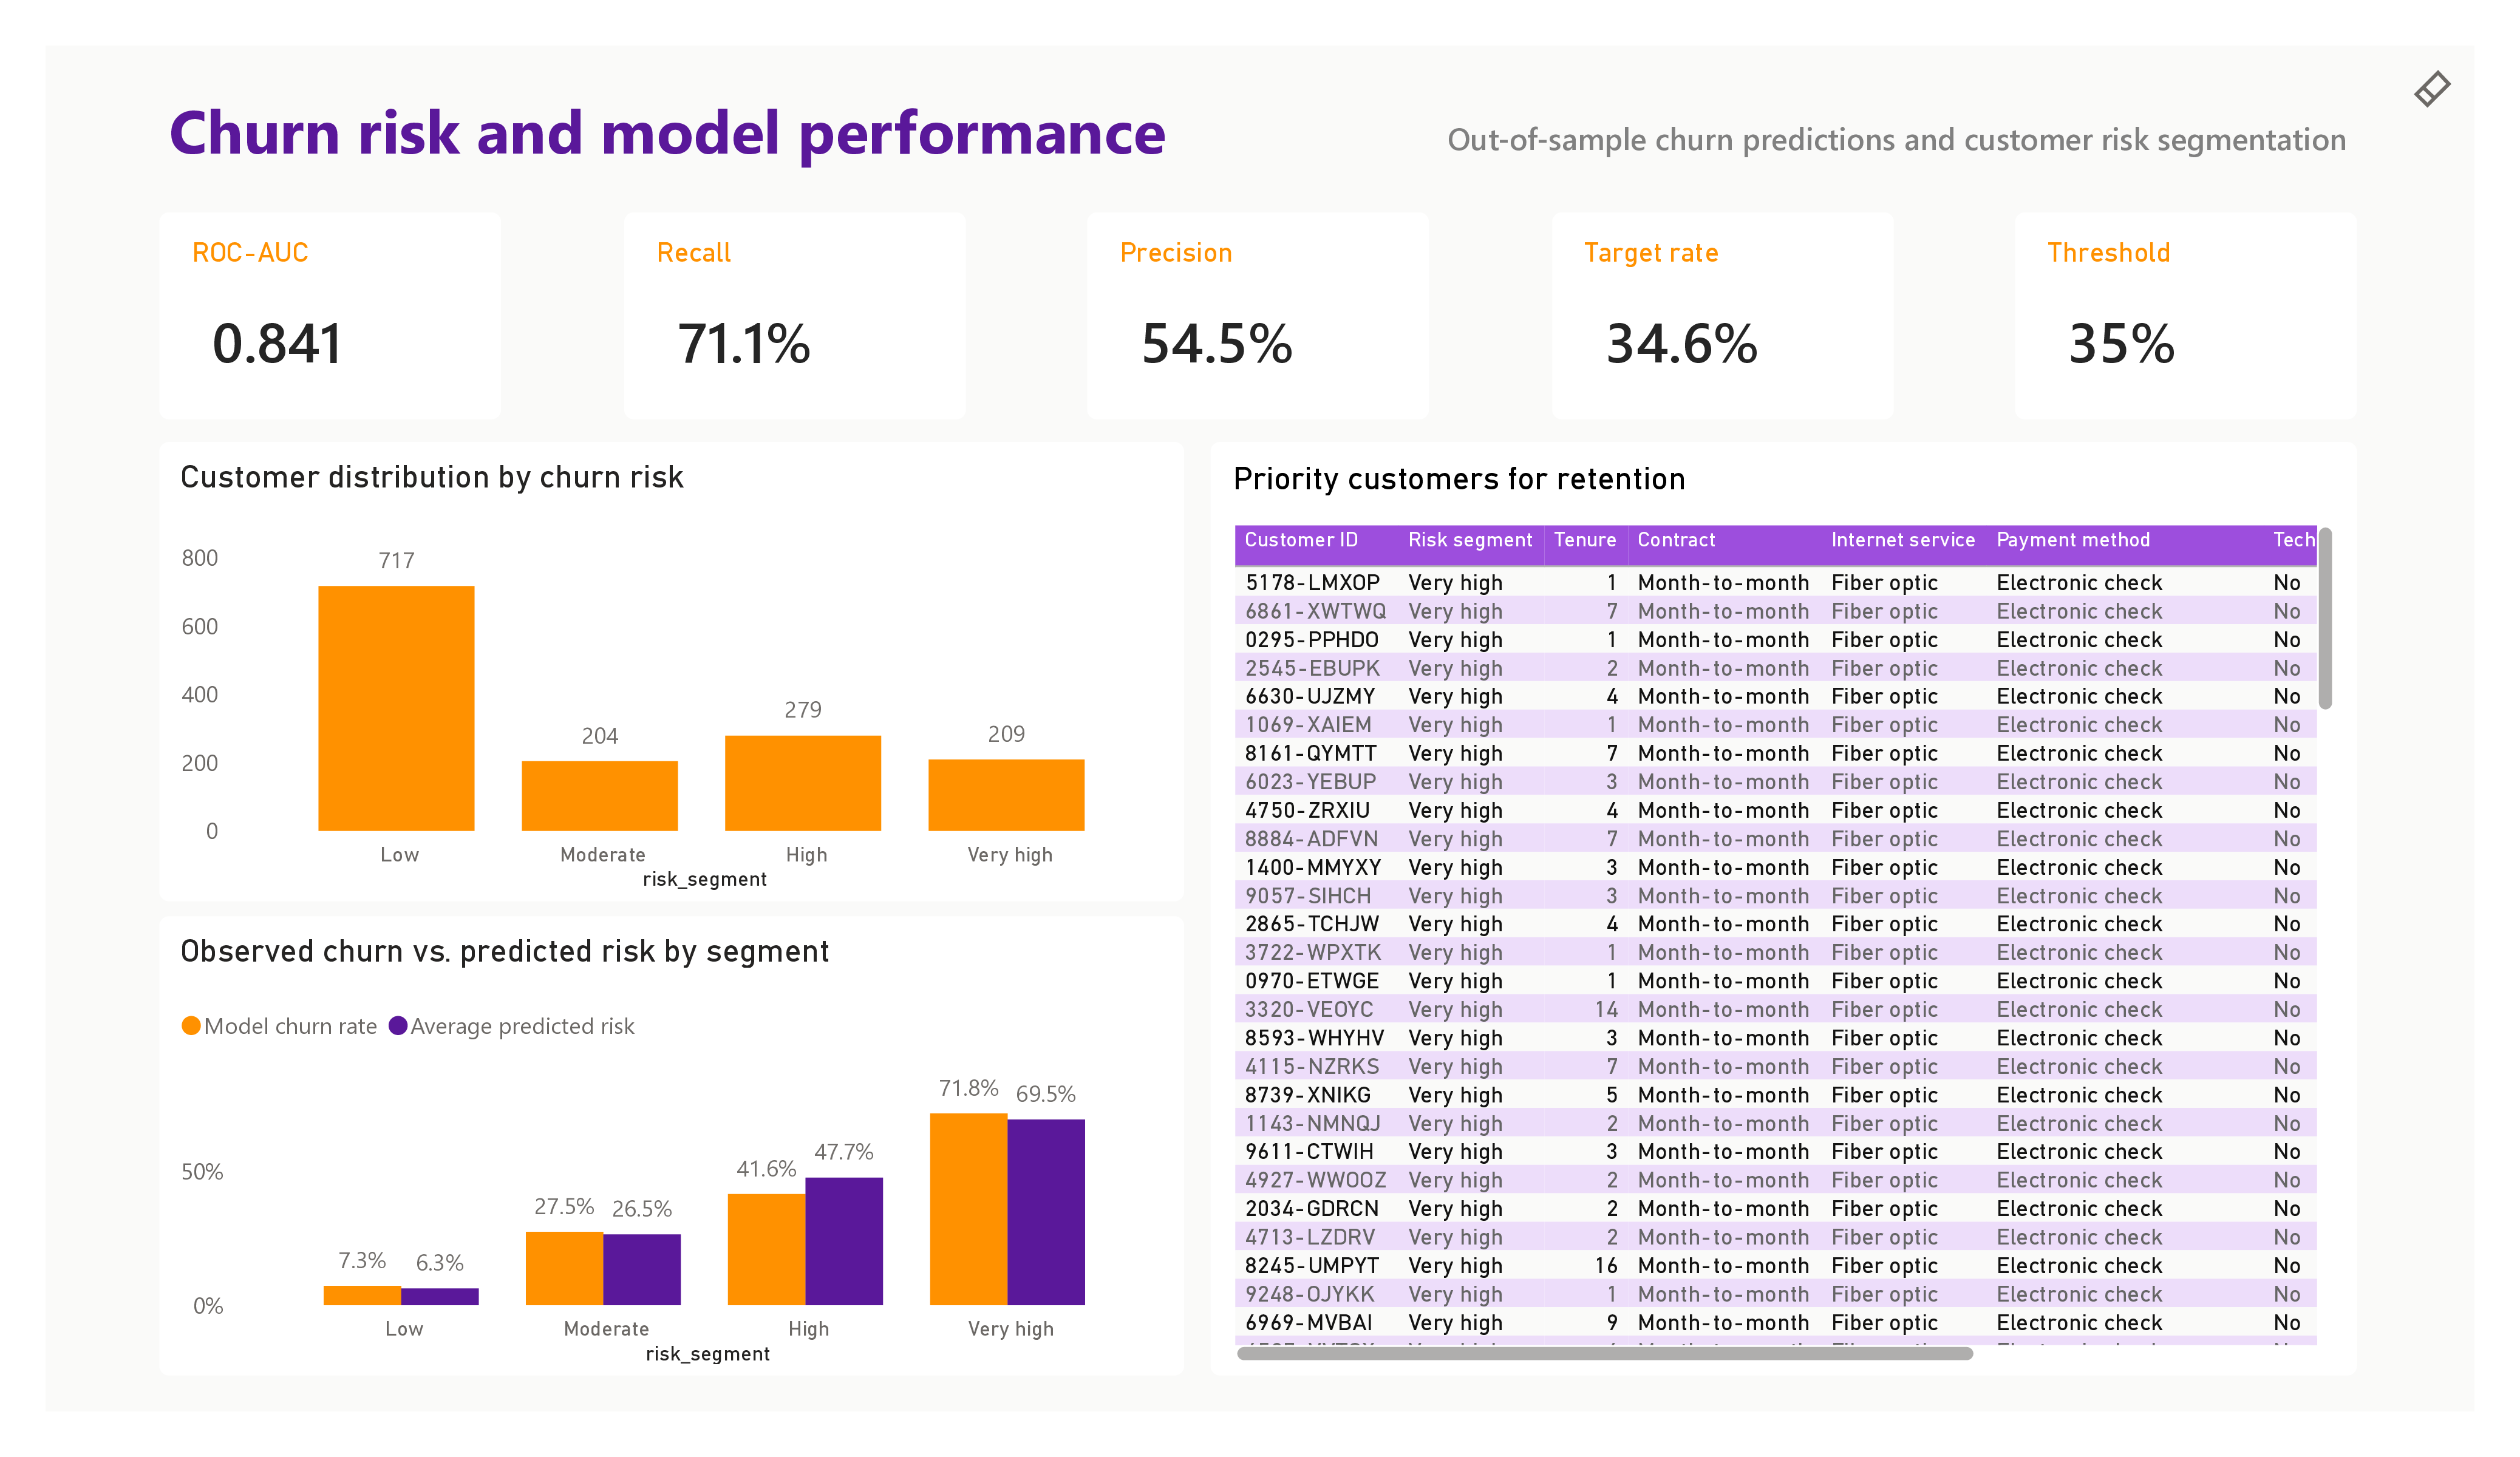

The dashboard page shown, as its layout file describes it:
{"tool":"powerbi","page":{"name":"2 - Churn risk and model ","canvas":[1280,720],"ordinal":1},"visuals":[{"type":"textbox","box":[60,17.1,601.7,55],"z":0},{"type":"textbox","box":[661.7,33.3,556.7,38.3],"z":1000},{"type":"cardVisual","title":"ROC-AUC","fields":{"Data":["Measures (2).Model ROC-AUC"]},"box":[60,88.3,180,108.3],"z":2000},{"type":"cardVisual","title":"Recall","fields":{"Data":["Measures (2).Model recall"]},"box":[304.6,88.3,180,108.3],"z":3000},{"type":"cardVisual","title":"Precision","fields":{"Data":["Measures (2).Model precision"]},"box":[549.2,88.3,180,108.3],"z":4000},{"type":"cardVisual","title":"Target rate","fields":{"Data":["Measures (2).Target rate"]},"box":[793.8,88.3,180,108.3],"z":5000},{"type":"cardVisual","title":"Threshold","fields":{"Data":["Measures (2).Model threshold"]},"box":[1038.3,88.3,180,108.3],"z":6000},{"type":"tableEx","title":"Priority customers for retention","fields":{"Values":["Model results.customer_id","Model results.risk_segment","Sum(Model results.tenure)","Model results.contract","Model results.internet_service","Model results.payment_method","Model results.tech_support","Model results.online_security","Sum(Model results.monthly_charges)","Sum(Model results.churn_probabaility)"]},"box":[614,209,604,492],"z":7000},{"type":"clusteredColumnChart","title":"Customer distribution by churn risk","fields":{"Category":["Model results.risk_segment"],"Y":["Measures (2).Model customers"]},"box":[60,209,540,242],"z":8000},{"type":"clusteredColumnChart","title":"Observed churn vs. predicted risk by segment","fields":{"Category":["Model results.risk_segment"],"Y":["Measures (2).Model churn rate","Measures (2).Average predicted risk"]},"box":[60,459,540,242],"z":9000},{"type":"actionButton","box":[1235.5,0,44.5,44.5],"z":9001}]}

Visuals, with their boxes on the page's 1280x720 design canvas (x1, y1, x2, y2). These are canvas units, not pixel positions in the 2520x1457 screenshot, which may show the page scaled, cropped or inside an application window:
textbox: left=60, top=17, right=662, bottom=72
textbox: left=662, top=33, right=1218, bottom=72
"ROC-AUC" cardVisual: left=60, top=88, right=240, bottom=197
"Recall" cardVisual: left=305, top=88, right=485, bottom=197
"Precision" cardVisual: left=549, top=88, right=729, bottom=197
"Target rate" cardVisual: left=794, top=88, right=974, bottom=197
"Threshold" cardVisual: left=1038, top=88, right=1218, bottom=197
"Priority customers for retention" tableEx: left=614, top=209, right=1218, bottom=701
"Customer distribution by churn risk" clusteredColumnChart: left=60, top=209, right=600, bottom=451
"Observed churn vs. predicted risk by segment" clusteredColumnChart: left=60, top=459, right=600, bottom=701
actionButton: left=1236, top=0, right=1280, bottom=44
